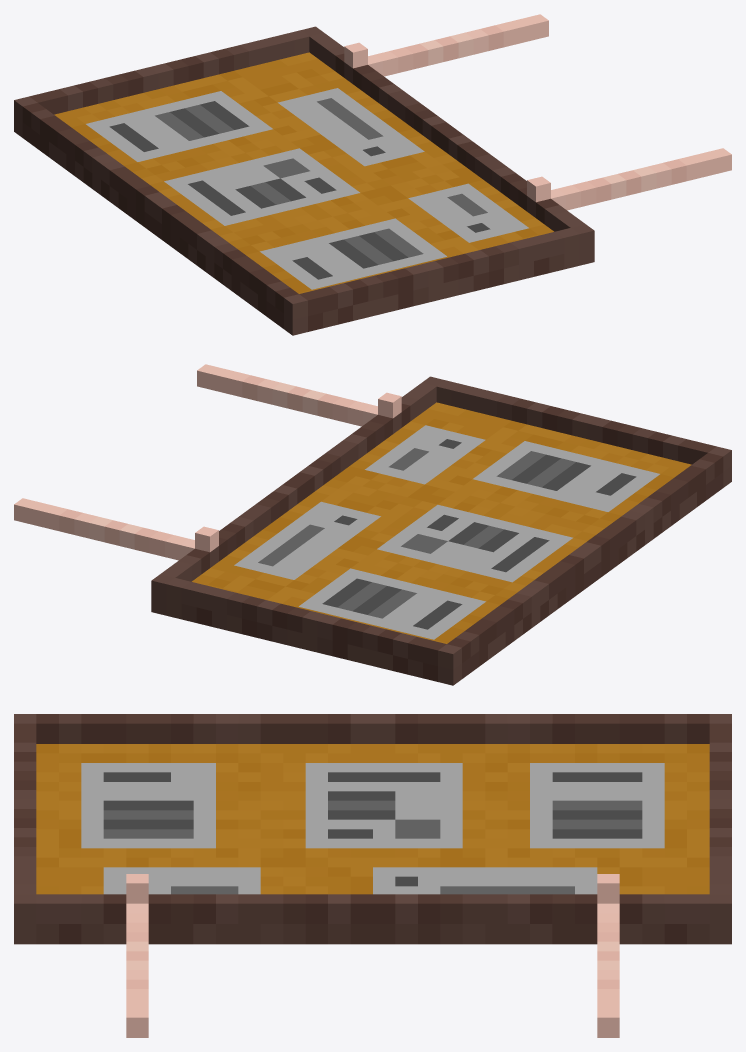
Rendered from corchoGrandeSuelo.obj.
The picture shows the model from 3 angles, top to bottom: view 1: azimuth 30°, elevation 25°; view 2: azimuth 150°, elevation 25°; view 3: azimuth 270°, elevation 25°; orthographic projection. The views are drawn at different scales.
Size of the model in its own units: 3.2 by 0.3 by 3.2.
1 material, 1 textured.
